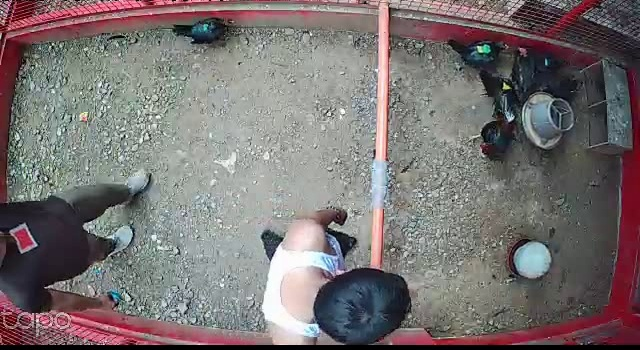Chicken: (476, 67, 526, 117), (171, 12, 236, 49), (447, 39, 509, 70)
Rooster: (465, 95, 522, 162)
Saddle_Color_Yellow: (501, 83, 511, 92)
Saddle_Color_YellowGreen: (476, 43, 492, 55)
